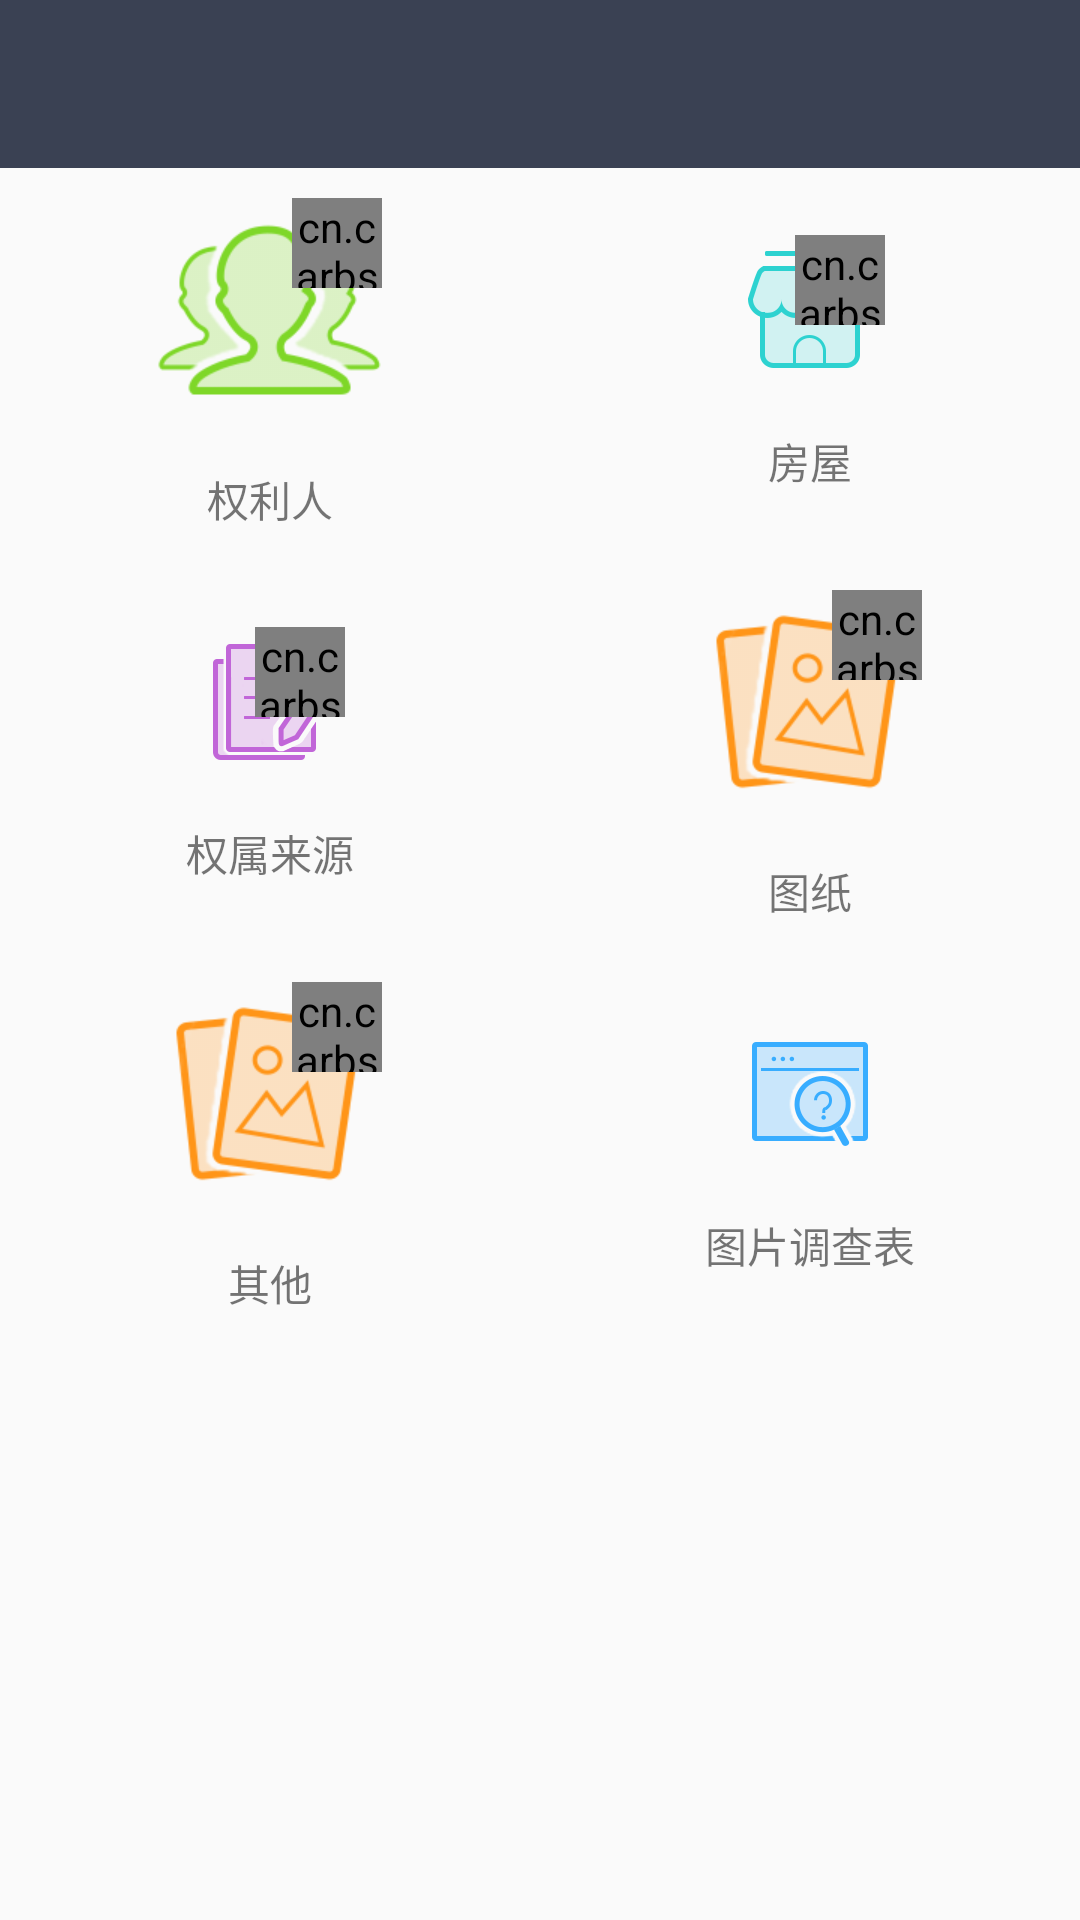

Screen size 1080 x 1920. Icon name, then its box in pixels as (x1, y1, x2, y2):
item questionnaire: (752, 1042, 868, 1146)
